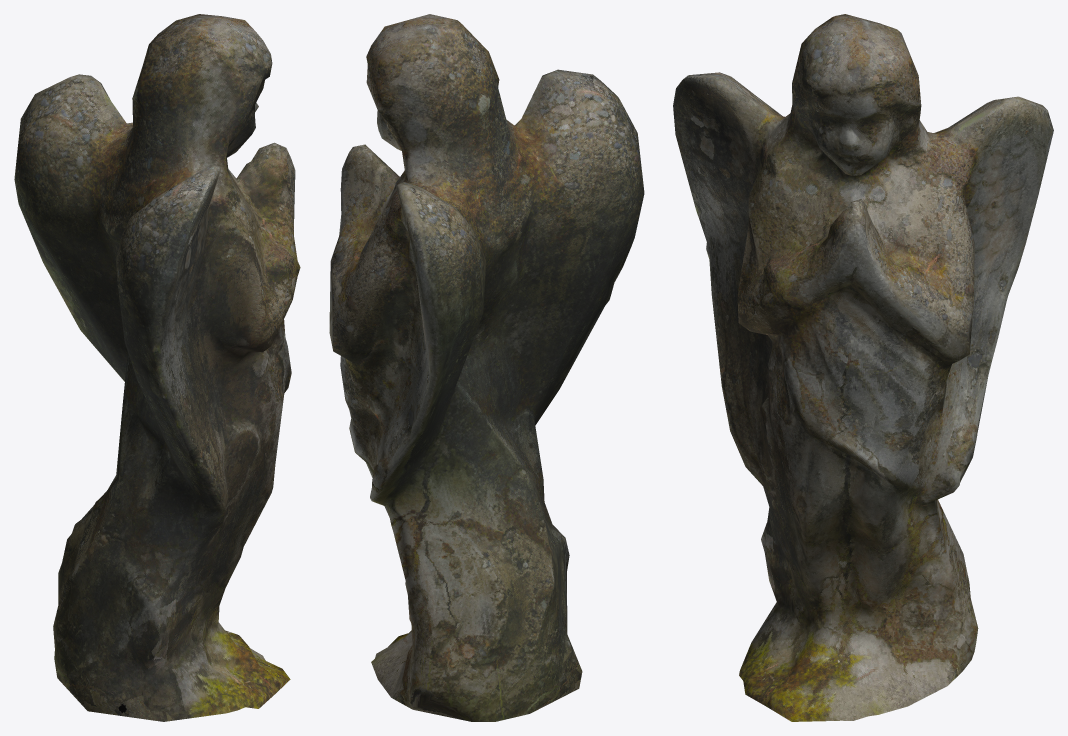
Rendered from atkdef_statue.glb.
3 views of the same model, side by side, from view 1: azimuth 30°, elevation 25°; view 2: azimuth 150°, elevation 25°; view 3: azimuth 270°, elevation 25° (orthographic). The views are drawn at different scales.
Visible parts, largest first — view 1: Object_6; view 2: Object_6; view 3: Object_6.
Boxes of the visible parts, x1=… form: Object_6: x1=14, y1=14, x2=300, y2=721; Object_6: x1=329, y1=14, x2=644, y2=721; Object_6: x1=673, y1=14, x2=1053, y2=721.
Size of the model in its own units: 0.5052 by 1.36 by 0.6988.
1 material, 1 textured.
